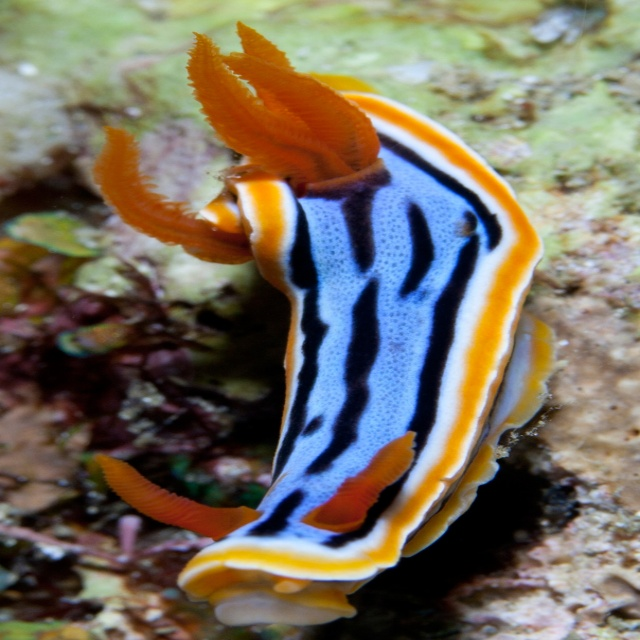Fish: (92, 21, 557, 626)
